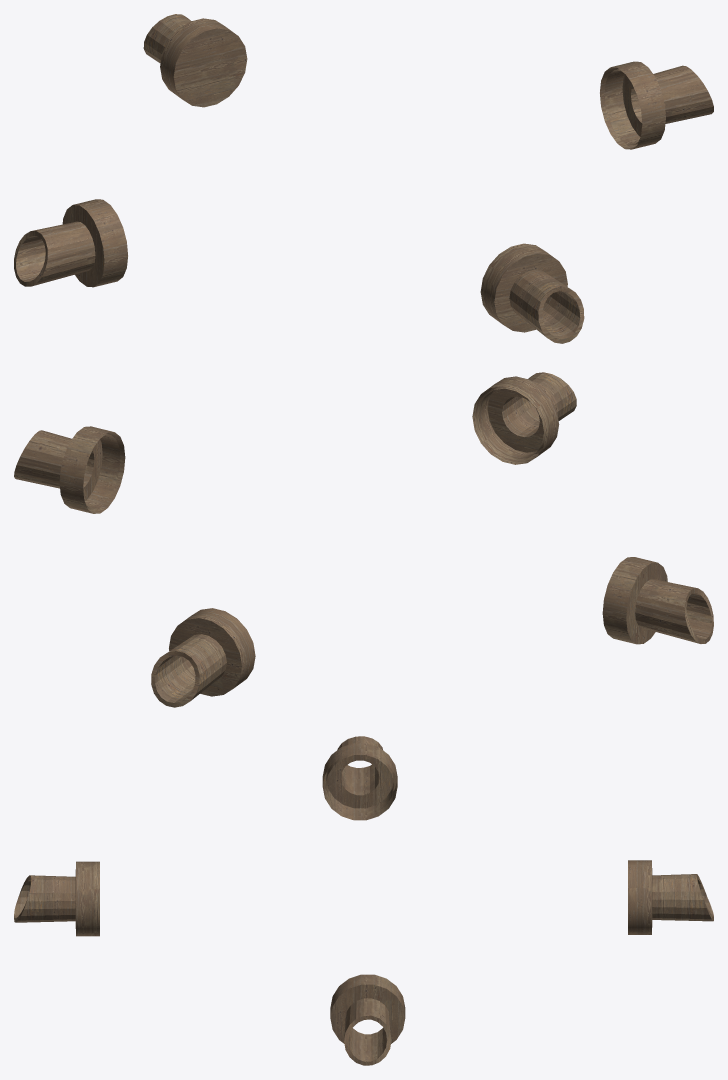
Rendered from OU_AR_Fountain_02_D.fbx.
3 views of the same model, one above another, from view 1: azimuth 30°, elevation 25°; view 2: azimuth 150°, elevation 25°; view 3: azimuth 270°, elevation 25° (orthographic). The views are drawn at different scales.
Visible parts, largest first — view 1: Fountain_02; view 2: Fountain_02; view 3: Fountain_02.
Boxes of the visible parts, x1,y1,x2,y2 form: Fountain_02: (14, 14, 713, 343); Fountain_02: (14, 372, 713, 707); Fountain_02: (14, 736, 713, 1065).
Size of the model in its own units: 281 by 30.94 by 281.
Materials: 1 (1 with a texture image).
